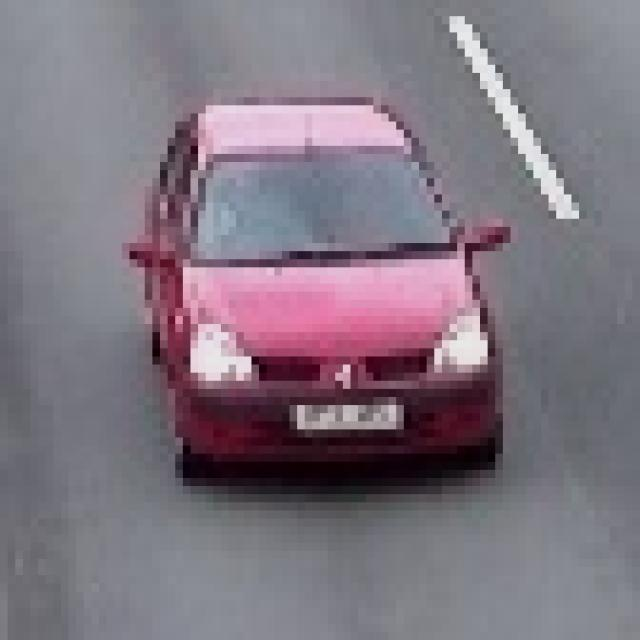maroon: (146, 96, 496, 477)
